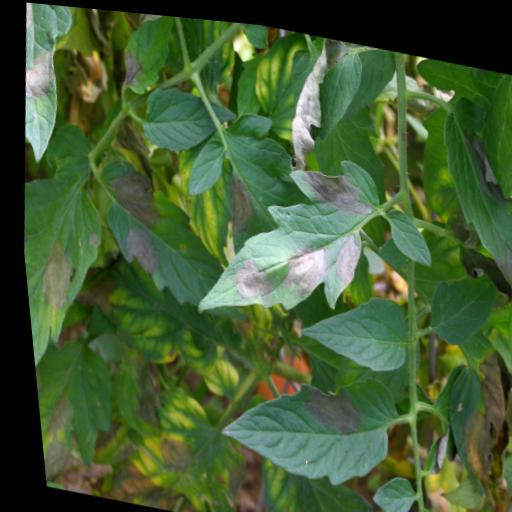Healthy: (285, 273, 406, 371), (134, 78, 237, 157), (415, 253, 499, 347), (379, 195, 430, 255)
Late Blight: (180, 124, 397, 333), (197, 339, 406, 495), (8, 110, 123, 392), (83, 149, 240, 308), (419, 84, 512, 317), (418, 328, 512, 512), (9, 1, 96, 169), (109, 8, 182, 104)
